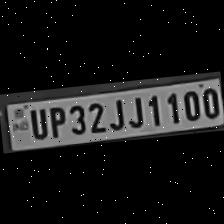0: (178, 86, 201, 120), (198, 84, 220, 119)
1: (142, 90, 164, 127), (161, 89, 181, 125)
2: (84, 98, 107, 134)
3: (65, 100, 86, 134)
J: (122, 91, 146, 128), (106, 95, 126, 131)
P: (46, 102, 68, 138)
U: (26, 104, 47, 140)
